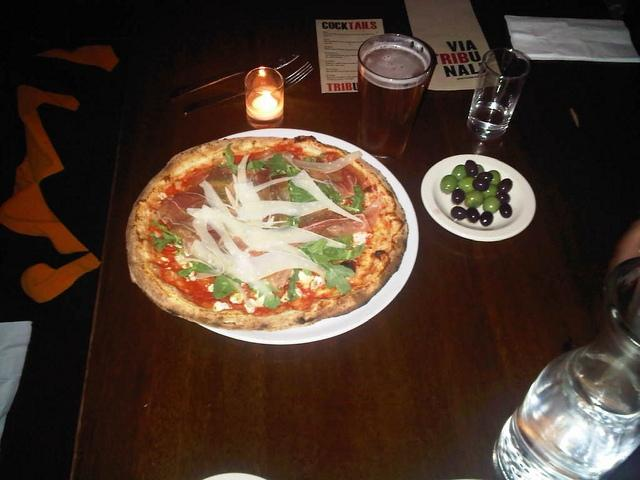grape: (440, 175, 458, 194), (464, 191, 484, 208), (483, 196, 501, 214), (452, 164, 468, 182), (458, 177, 475, 193), (481, 184, 499, 199), (498, 178, 514, 194), (479, 211, 494, 226), (452, 188, 466, 204), (451, 206, 467, 220), (466, 206, 479, 222), (488, 170, 501, 186), (472, 179, 489, 191), (499, 204, 512, 218), (496, 192, 511, 204), (476, 164, 484, 176)
